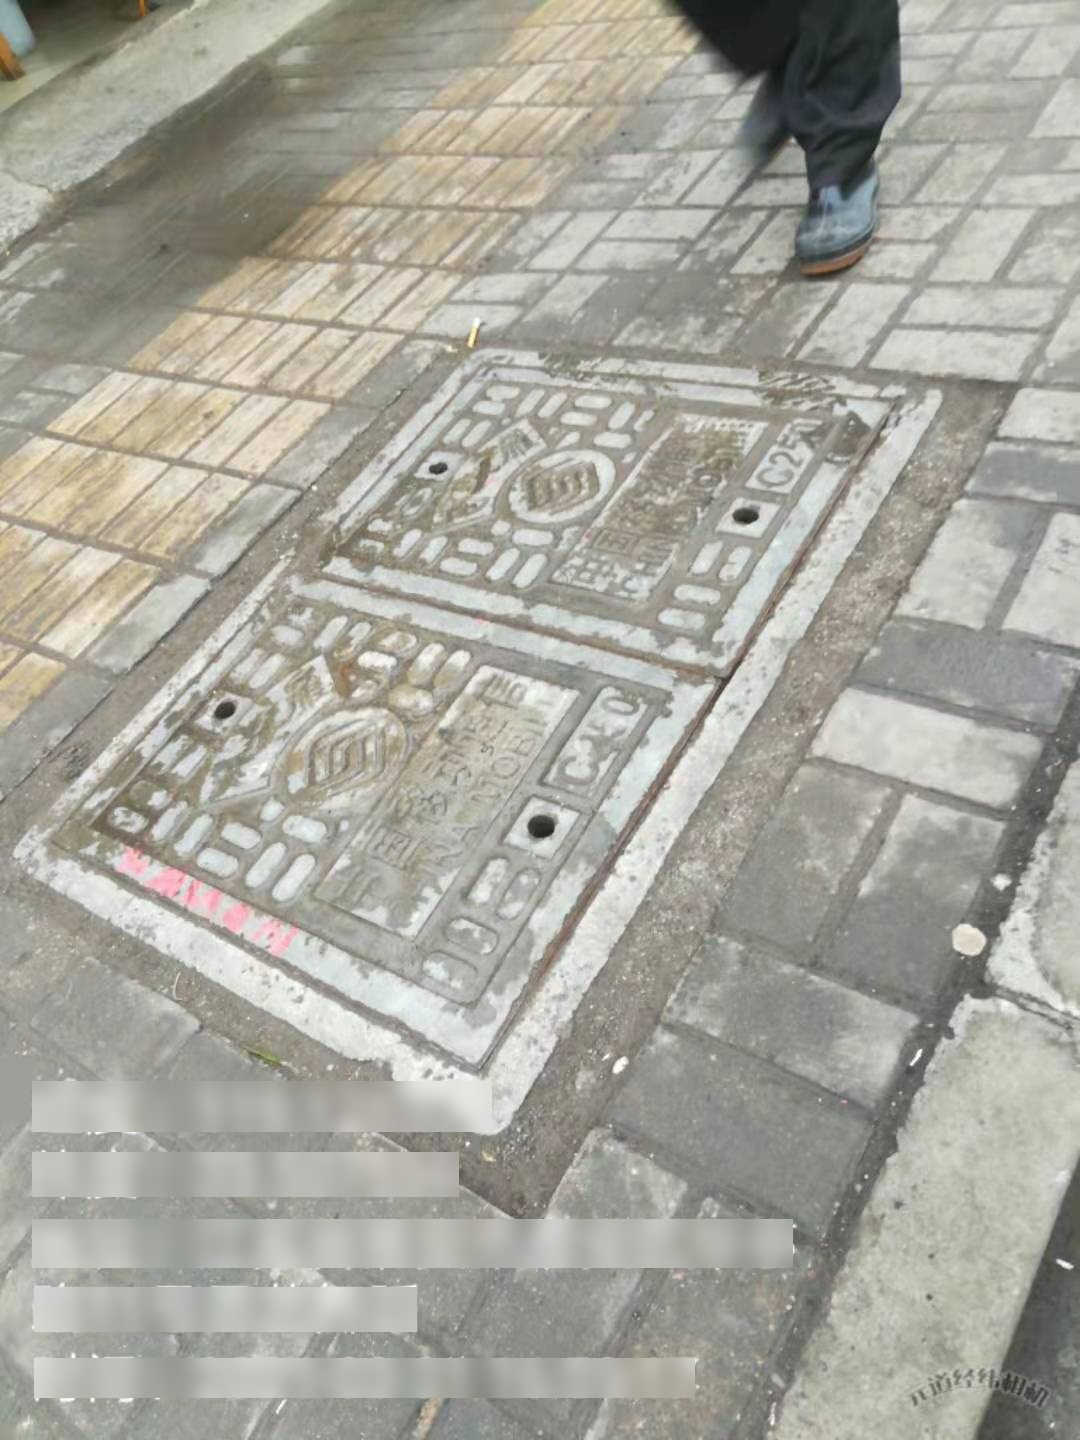good: (9, 347, 943, 1141)
